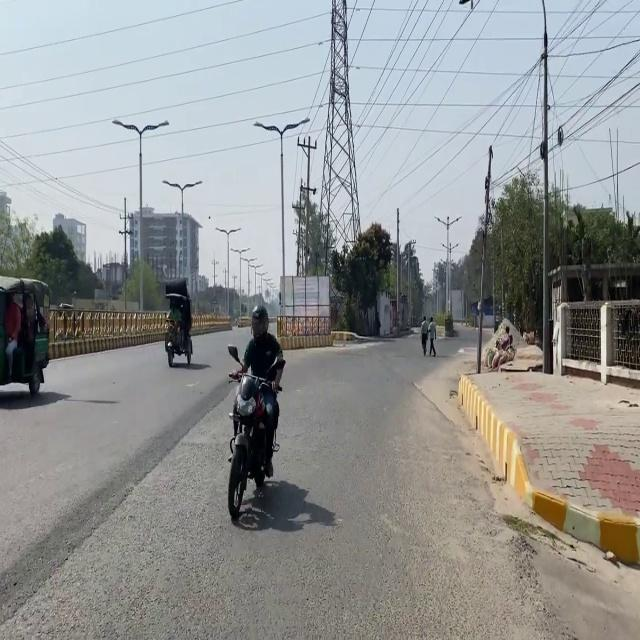Construction-barrier: (16, 434, 184, 620), (529, 488, 638, 564)
Fallen-tree: (225, 344, 285, 519), (163, 291, 193, 367)
Garbage: (276, 274, 332, 345)
Garbage-bin: (426, 316, 436, 356), (420, 315, 428, 355)
Pothole: (455, 371, 639, 567)
Traffic-cone: (0, 275, 51, 397)
